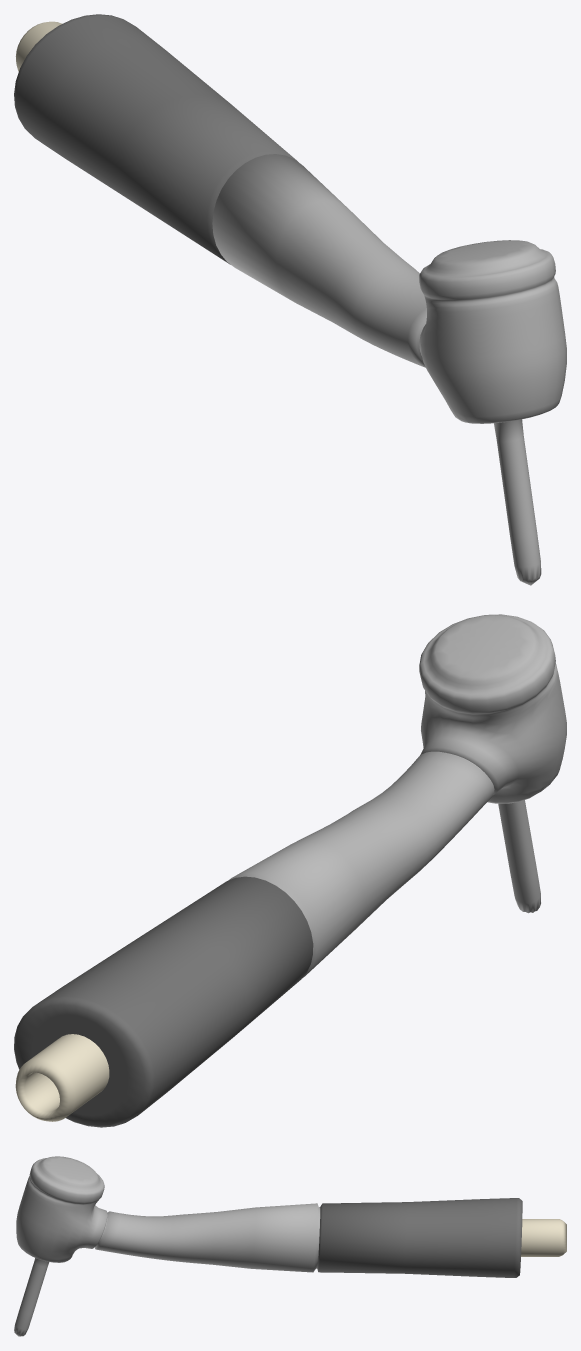
The model's file is su_veren_alet.fbx.
3 views of the same model, one above another, from view 1: azimuth 30°, elevation 25°; view 2: azimuth 150°, elevation 25°; view 3: azimuth 270°, elevation 25° (orthographic). The views are drawn at different scales.
Parts seen in each view (by area): view 1: Cylinder.002, Cylinder.001, Cylinder, Cylinder.003; view 2: Cylinder.002, Cylinder.001, Cylinder, Cylinder.003; view 3: Cylinder.002, Cylinder, Cylinder.001, Cylinder.003.
Part boxes in pixels (bbox=[...]): Cylinder.002: bbox=[14, 14, 297, 264]; Cylinder.001: bbox=[419, 240, 566, 585]; Cylinder: bbox=[212, 154, 426, 367]; Cylinder.003: bbox=[15, 21, 62, 71]; Cylinder.002: bbox=[14, 876, 313, 1127]; Cylinder.001: bbox=[419, 614, 566, 913]; Cylinder: bbox=[228, 751, 494, 978]; Cylinder.003: bbox=[15, 1034, 109, 1121]; Cylinder.002: bbox=[317, 1198, 522, 1277]; Cylinder: bbox=[94, 1203, 320, 1272]; Cylinder.001: bbox=[14, 1156, 107, 1336]; Cylinder.003: bbox=[521, 1219, 566, 1256].
Size of the model in its own units: 48.33 by 104 by 299.
